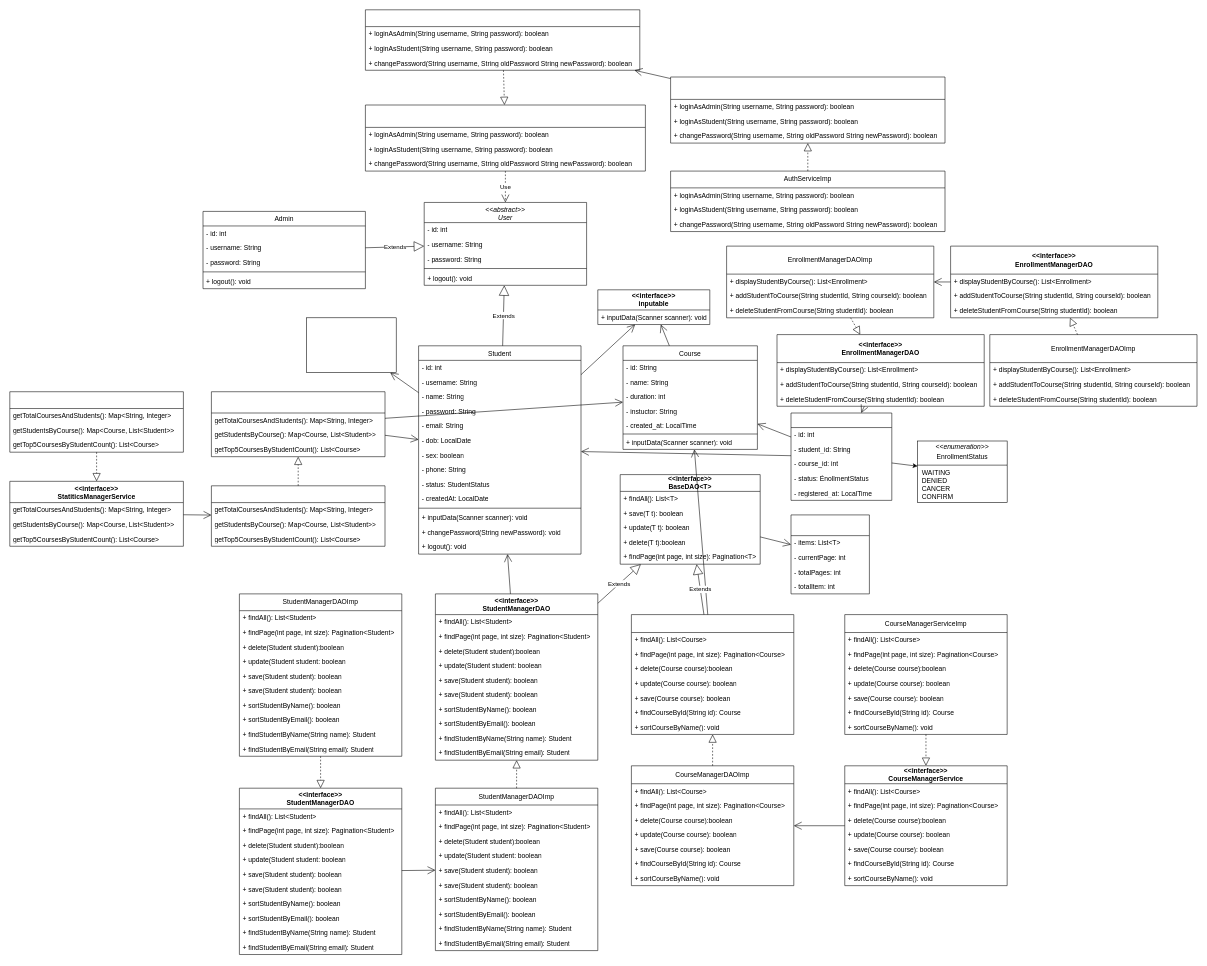
The diagram is 1207 pixels wide and 966 high, and some of its shapes have lost their labels. Each missing label, with the box of its shape:
<< enumeration >> StudentStatus ACTIVE INACTIVE BLOCKED: (306, 317, 396, 373)
<<abstract>> Pagination<T>: (790, 514, 869, 594)
<<interface>> AuthDAO: (365, 104, 645, 171)
<<interface>> AuthService: (670, 76, 945, 143)
<<interface>> CourseManagerDAO: (631, 614, 794, 734)
<<interface>> StatiticsManagerDAO: (211, 391, 385, 457)
AuthDAOImp: (365, 9, 640, 70)
Enrollment: (790, 412, 892, 500)
StatiticsManagerDAOImp: (211, 485, 385, 546)
StatiticsManagerServiceImp: (9, 391, 183, 452)
